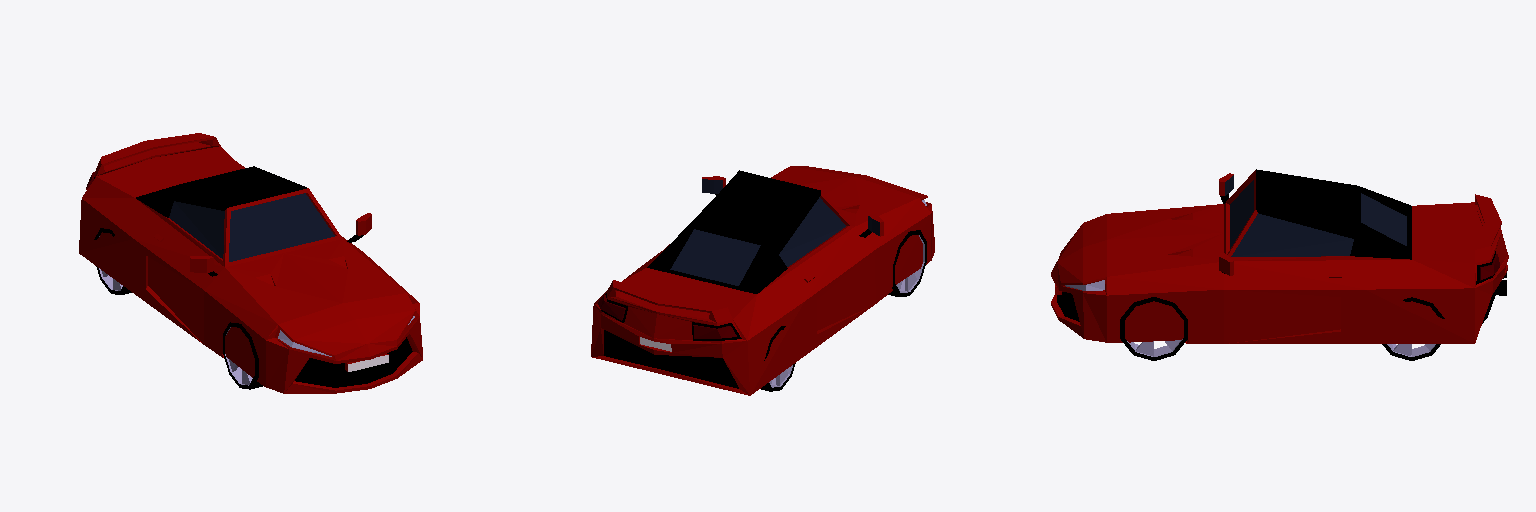
The model's file is deportivo.obj.
3 renders of one model, left to right at view 1: azimuth 30°, elevation 25°; view 2: azimuth 150°, elevation 25°; view 3: azimuth 270°, elevation 25°, orthographic.
Parts seen in each view (by area): view 1: Sports, Sports_wheel_front_right; view 2: Sports, Sports_wheel_front_right; view 3: Sports, Sports_wheel_front_left, Sports_wheel_rear_left.
Boxes of the visible parts, x1=… form: Sports: x1=79, y1=133, x2=422, y2=393; Sports_wheel_front_right: x1=223, y1=322, x2=262, y2=389; Sports: x1=591, y1=166, x2=934, y2=395; Sports_wheel_front_right: x1=888, y1=230, x2=926, y2=296; Sports: x1=1051, y1=169, x2=1508, y2=343; Sports_wheel_front_left: x1=1120, y1=297, x2=1187, y2=360; Sports_wheel_rear_left: x1=1382, y1=297, x2=1444, y2=360.
Bounding box in the file's own units: 2.63 × 1.84 × 5.73.